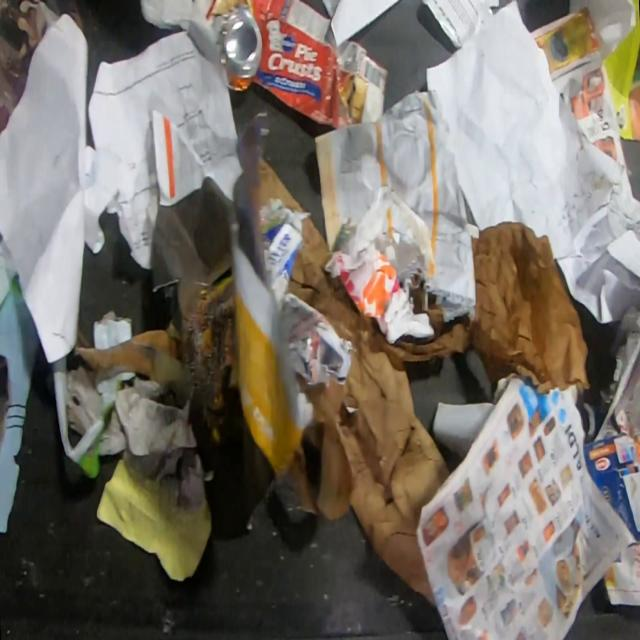cardboard: (286, 217, 470, 608), (194, 0, 390, 129), (0, 230, 41, 534), (583, 403, 640, 542), (260, 198, 311, 305), (260, 159, 304, 212)
metal: (218, 4, 265, 93)
rigid_plastic: (232, 108, 271, 285)
